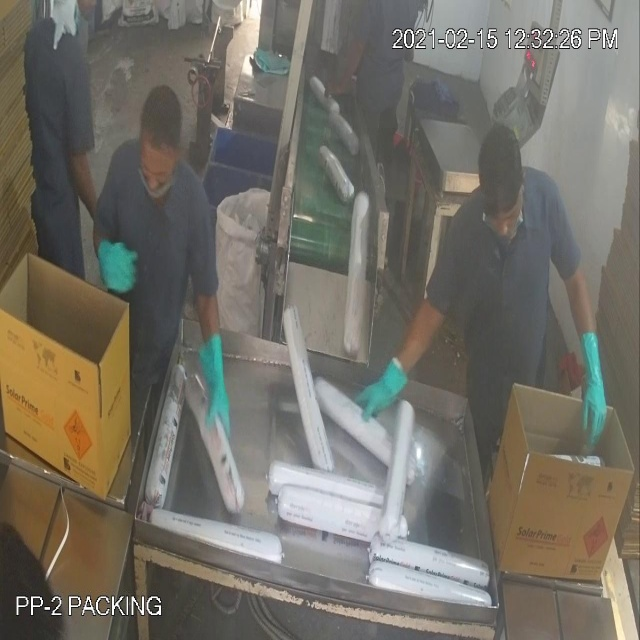Guantes: (340, 348, 426, 448), (184, 314, 241, 455), (566, 325, 617, 457), (88, 226, 143, 297)
Sin_guantes: (315, 31, 374, 106), (62, 136, 98, 212)
